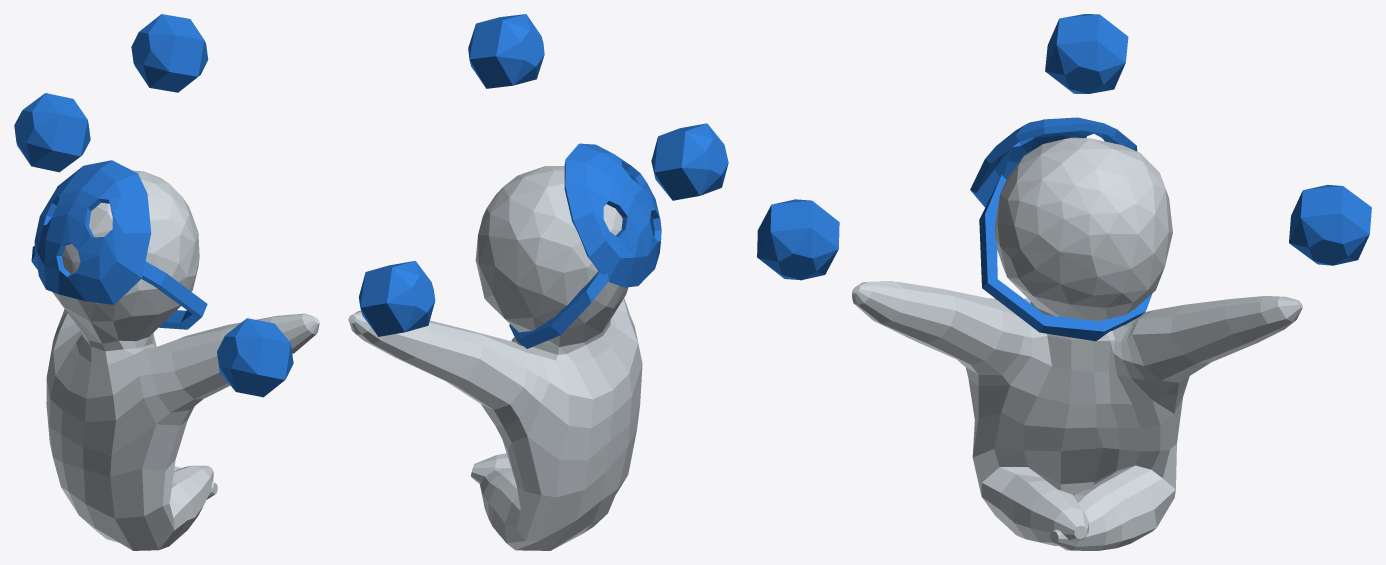
Rendered from Biir5.fbx.
3 views of the same model, side by side, from view 1: azimuth 30°, elevation 25°; view 2: azimuth 150°, elevation 25°; view 3: azimuth 270°, elevation 25° (orthographic). The views are drawn at different scales.
Visible parts, largest first — view 1: Meep.005, Meep.004, Cylinder.013, Cylinder.015, Cylinder.014, Meep.007; view 2: Meep.005, Meep.004, Cylinder.013, Cylinder.014, Cylinder.015, Meep.007; view 3: Meep.005, Cylinder.013, Cylinder.015, Cylinder.014, Meep.007, Meep.004.
Part boxes in pixels (x1=…): Meep.005: x1=46, y1=170, x2=319, y2=550; Meep.004: x1=34, y1=160, x2=151, y2=304; Cylinder.013: x1=217, y1=318, x2=293, y2=397; Cylinder.015: x1=14, y1=93, x2=90, y2=172; Cylinder.014: x1=131, y1=14, x2=208, y2=92; Meep.007: x1=31, y1=245, x2=207, y2=329; Meep.005: x1=348, y1=166, x2=642, y2=550; Meep.004: x1=564, y1=143, x2=661, y2=287; Cylinder.013: x1=651, y1=123, x2=728, y2=200; Cylinder.014: x1=468, y1=14, x2=544, y2=88; Cylinder.015: x1=358, y1=261, x2=435, y2=336; Meep.007: x1=509, y1=271, x2=610, y2=348; Meep.005: x1=852, y1=137, x2=1302, y2=550; Cylinder.013: x1=757, y1=199, x2=839, y2=280; Cylinder.015: x1=1289, y1=184, x2=1371, y2=265; Cylinder.014: x1=1045, y1=14, x2=1128, y2=93; Meep.007: x1=979, y1=175, x2=1152, y2=341; Meep.004: x1=970, y1=117, x2=1137, y2=207.
Size of the model in its own units: 132 by 327 by 335.
